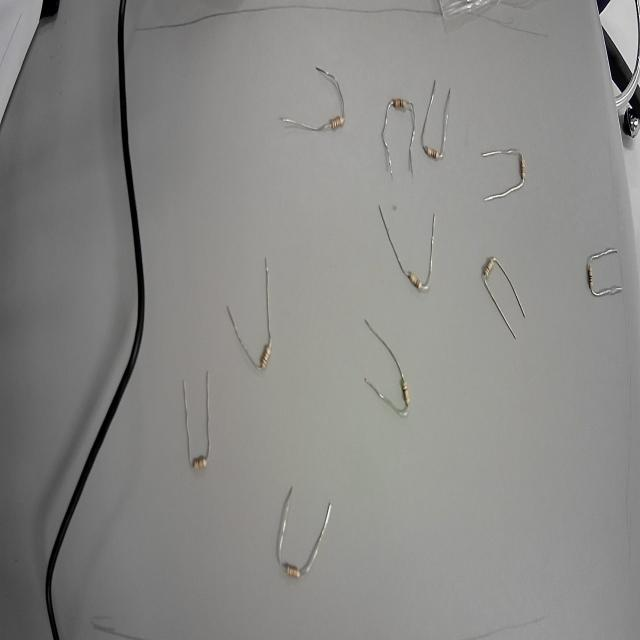resistor: (394, 255, 446, 322), (389, 346, 420, 453), (240, 328, 298, 384), (269, 539, 317, 599), (471, 235, 511, 295), (181, 436, 223, 489), (376, 69, 414, 125), (316, 95, 350, 150), (415, 122, 449, 176), (510, 140, 536, 200), (580, 235, 602, 302)
